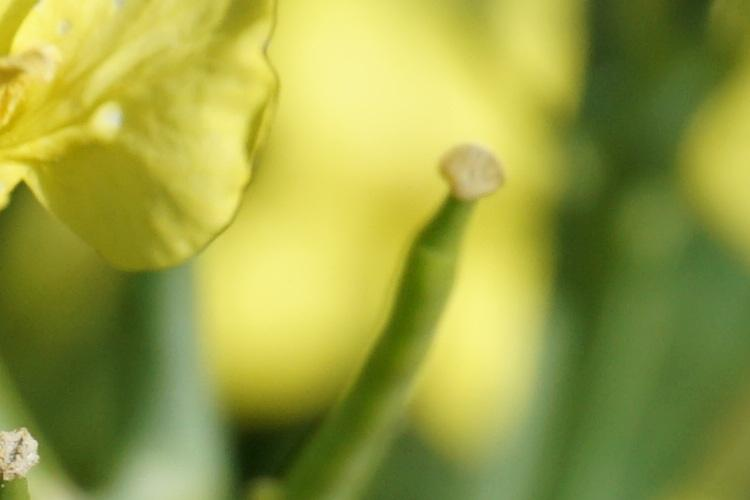pod: (317, 123, 519, 473), (1, 424, 40, 495)
yellow: (1, 1, 282, 279)
